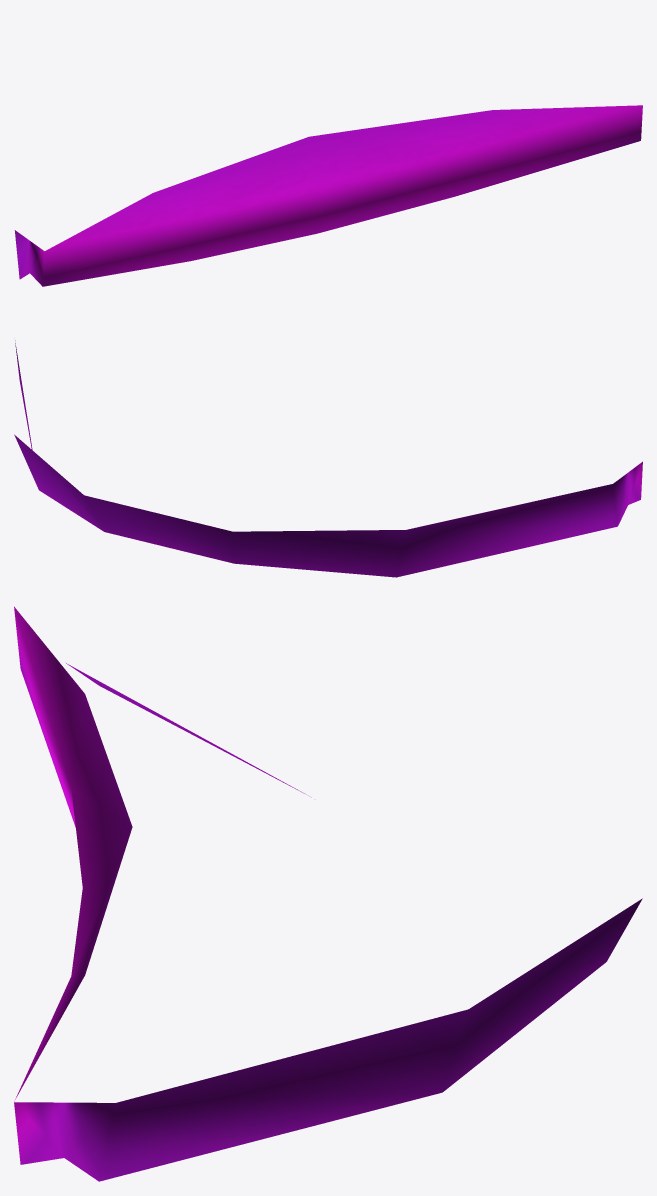
The model's file is banner_hanging_recolor_01.glb.
3 renders of one model, top to bottom at view 1: azimuth 30°, elevation 25°; view 2: azimuth 150°, elevation 25°; view 3: azimuth 270°, elevation 25°, orthographic. The views are drawn at different scales.
Visible parts, largest first — view 1: knights.banner_hanging_recolor_01-Mesh[0]; view 2: knights.banner_hanging_recolor_01-Mesh[0]; view 3: knights.banner_hanging_recolor_01-Mesh[0].
Boxes of the visible parts, bbox=[...] form: knights.banner_hanging_recolor_01-Mesh[0]: bbox=[14, 105, 642, 286]; knights.banner_hanging_recolor_01-Mesh[0]: bbox=[14, 340, 642, 577]; knights.banner_hanging_recolor_01-Mesh[0]: bbox=[14, 606, 642, 1181].
Size of the model in its own units: 2 by 0.3884 by 1.07.
1 material, 1 textured.
